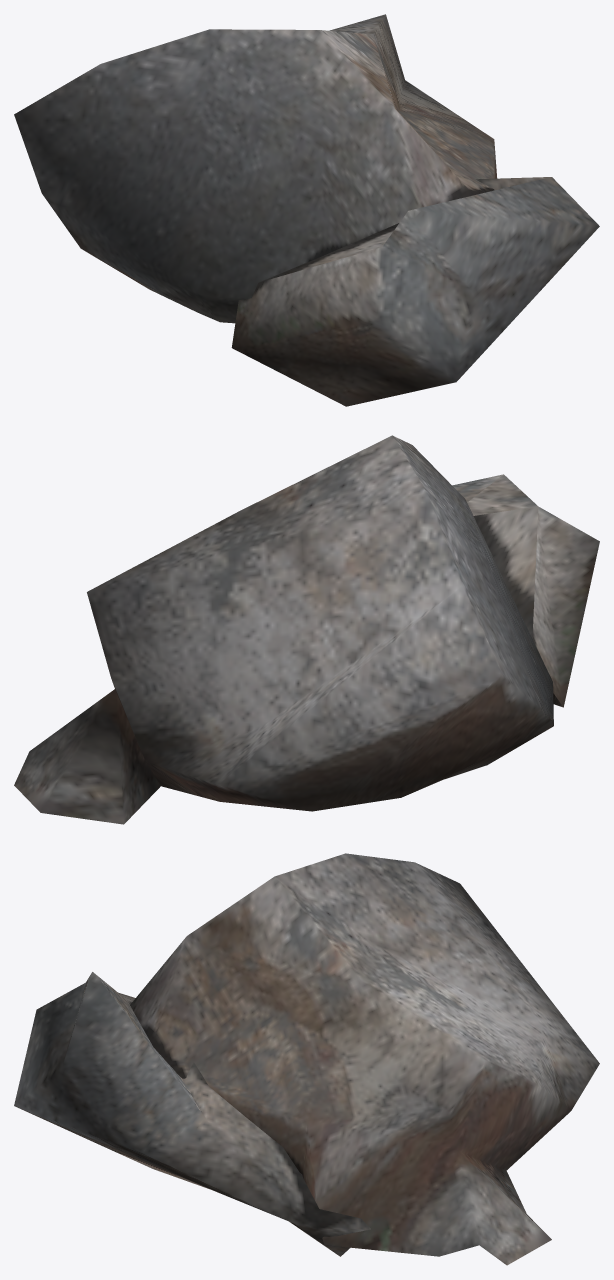
The model's file is forest_rock_07.glb.
The picture shows the model from 3 angles, top to bottom: view 1: azimuth 30°, elevation 25°; view 2: azimuth 150°, elevation 25°; view 3: azimuth 270°, elevation 25°; orthographic projection. The views are drawn at different scales.
Visible parts, largest first — view 1: Rocks.006_Rocks_0; view 2: Rocks.006_Rocks_0; view 3: Rocks.006_Rocks_0.
Part boxes in pixels (<box>): Rocks.006_Rocks_0: <box>14,14,599,406</box>; Rocks.006_Rocks_0: <box>14,435,599,824</box>; Rocks.006_Rocks_0: <box>14,853,599,1265</box>.
Bounding box in the file's own units: 0.9555 × 0.65 × 1.17.
Materials: 1 (1 with a texture image).
